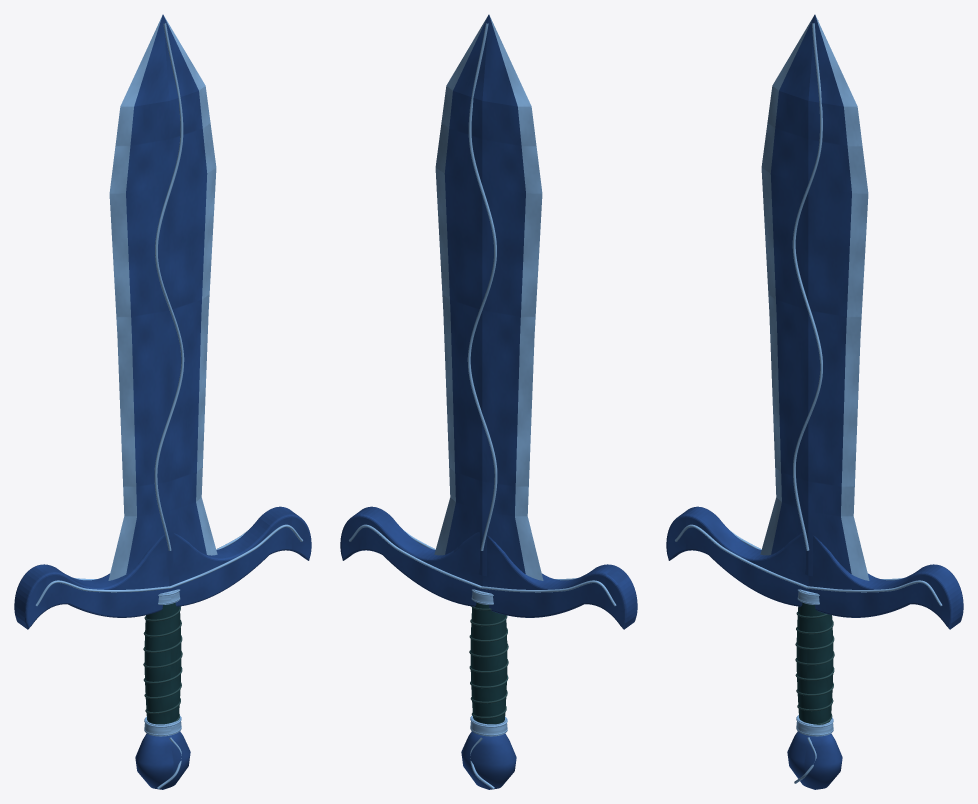
The model's file is tideworn_sword.glb.
The picture shows the model from 3 angles, left to right: view 1: azimuth 30°, elevation 25°; view 2: azimuth 150°, elevation 25°; view 3: azimuth 330°, elevation 25°; orthographic projection.
Parts seen in each view (by area): view 1: tideworn_sword-forged-body, tideworn_sword-honed-edge, tideworn_sword-grip-hide, tideworn_sword-wrap-overlap; view 2: tideworn_sword-forged-body, tideworn_sword-honed-edge, tideworn_sword-grip-hide, tideworn_sword-wrap-overlap; view 3: tideworn_sword-forged-body, tideworn_sword-honed-edge, tideworn_sword-grip-hide, tideworn_sword-wrap-overlap.
Part boxes in pixels (left/top/right/bottom): tideworn_sword-forged-body: left=14, top=14, right=311, bottom=789; tideworn_sword-honed-edge: left=35, top=15, right=302, bottom=789; tideworn_sword-grip-hide: left=144, top=602, right=181, bottom=724; tideworn_sword-wrap-overlap: left=143, top=606, right=182, bottom=721; tideworn_sword-forged-body: left=340, top=14, right=637, bottom=789; tideworn_sword-honed-edge: left=349, top=15, right=616, bottom=789; tideworn_sword-grip-hide: left=470, top=602, right=507, bottom=724; tideworn_sword-wrap-overlap: left=469, top=606, right=508, bottom=718; tideworn_sword-forged-body: left=666, top=14, right=963, bottom=789; tideworn_sword-honed-edge: left=675, top=15, right=942, bottom=783; tideworn_sword-grip-hide: left=796, top=602, right=833, bottom=724; tideworn_sword-wrap-overlap: left=795, top=612, right=834, bottom=724.
Size of the model in its own units: 0.584 by 1.51 by 0.0828.
4 materials, 4 textured.
